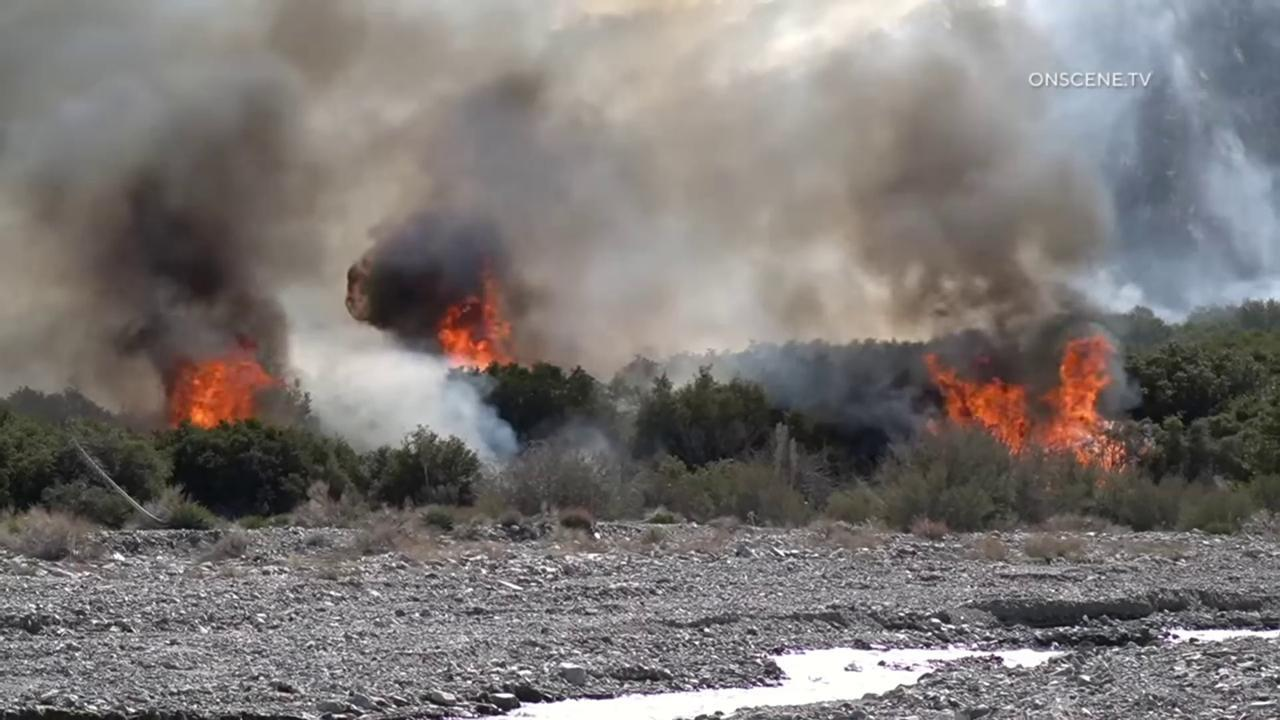fire: (925, 334, 1127, 490), (168, 348, 281, 436), (437, 259, 512, 374), (975, 355, 992, 364)
smoke: (0, 0, 1280, 492)
